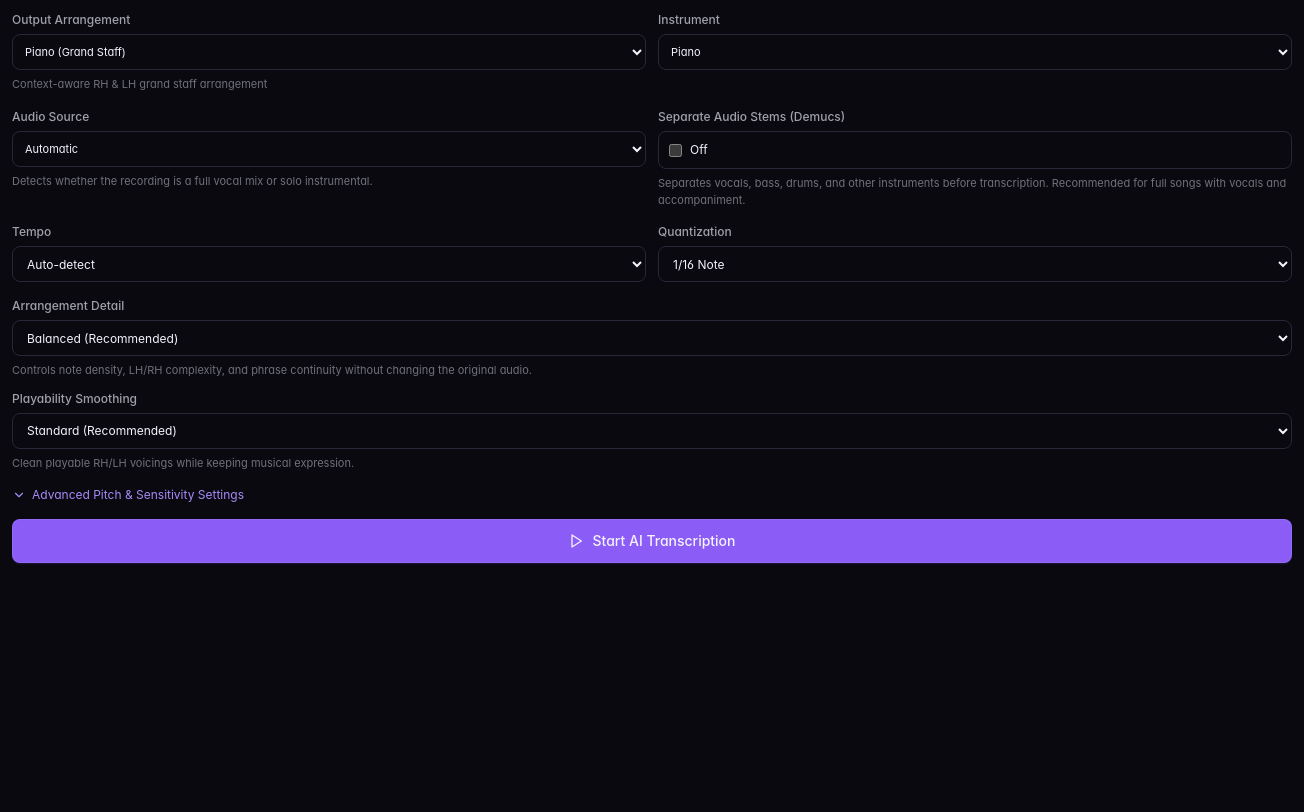
Test case: Violin Live Mic Tracker, UI Integration, & Transcription Preset › configures Violin (Solo Monophonic) preset cleanly in TranscriptionConfigPanel
The width and height of the screenshot is (1304, 812).
Later steps or results of the test are not shown.
Select "Violin (Solo Monophonic)" in the dropdown labelled "Output Arrangement" at (329, 52), box [12,34,646,70]
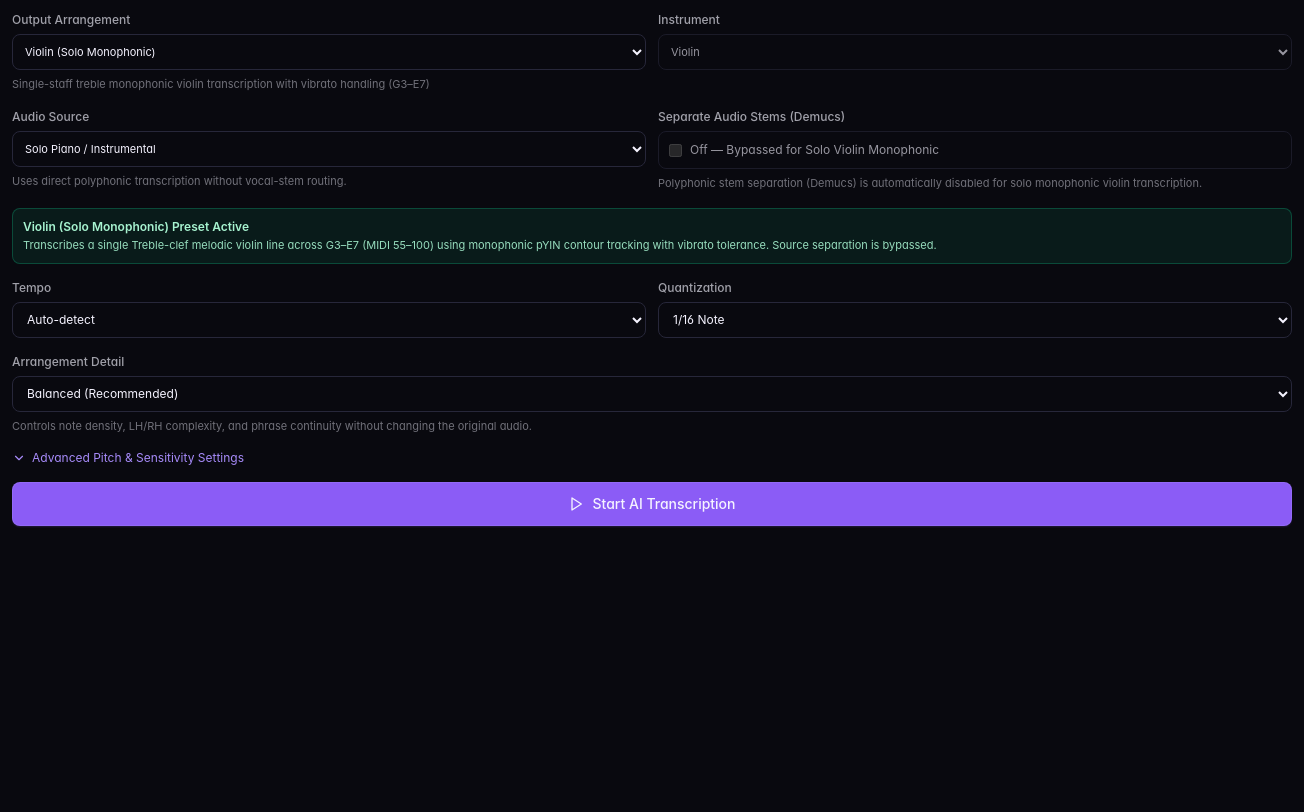
expect the dropdown labelled "Instrument" shows "Violin": met, box [658,34,1292,70]
expect the dropdown labelled "Instrument" is disabled: met, box [658,34,1292,70]
expect the checkbox labelled "Separate Audio Stems (Demucs)" is disabled: met, box [669,144,682,156]
